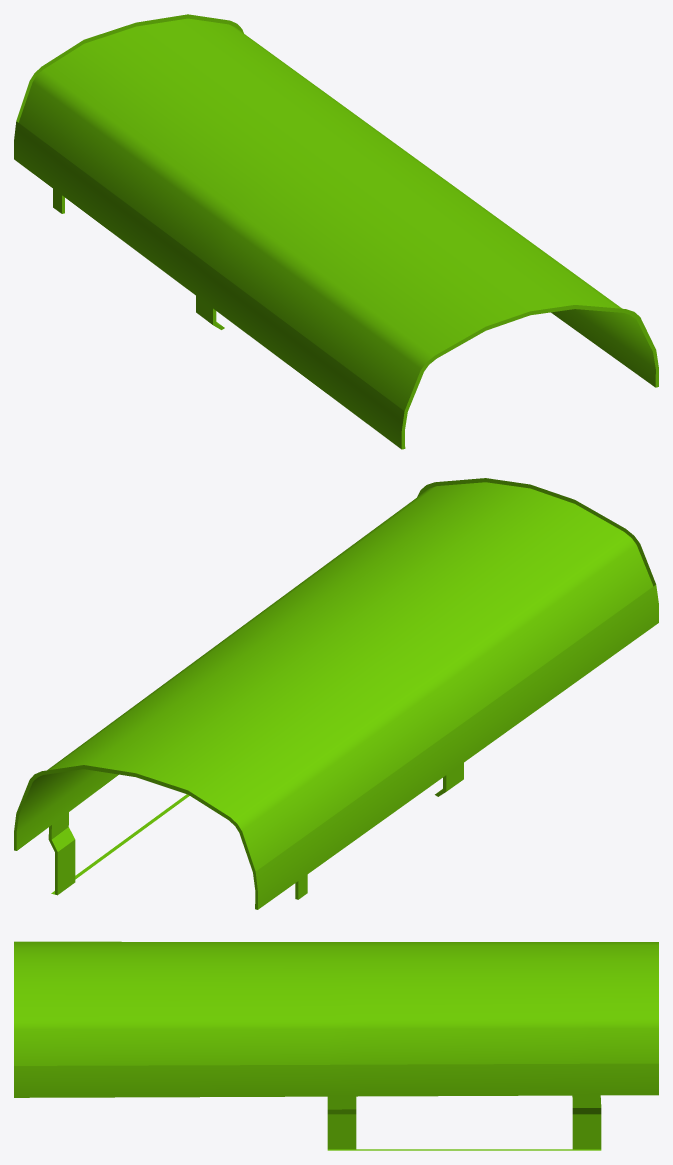
File: AM2_Vesper3_2seat.fbx
The picture shows the model from 3 angles, top to bottom: view 1: azimuth 30°, elevation 25°; view 2: azimuth 150°, elevation 25°; view 3: azimuth 270°, elevation 25°; orthographic projection. The views are drawn at different scales.
Parts seen in each view (by area): view 1: seatFrame3_lp; view 2: seatFrame3_lp; view 3: seatFrame3_lp.
Boxes of the visible parts, left/top/right/bottom form: seatFrame3_lp: left=14, top=14, right=658, bottom=449; seatFrame3_lp: left=14, top=478, right=658, bottom=909; seatFrame3_lp: left=14, top=941, right=658, bottom=1150.
Size of the model in its own units: 19.05 by 12.43 by 50.6.
